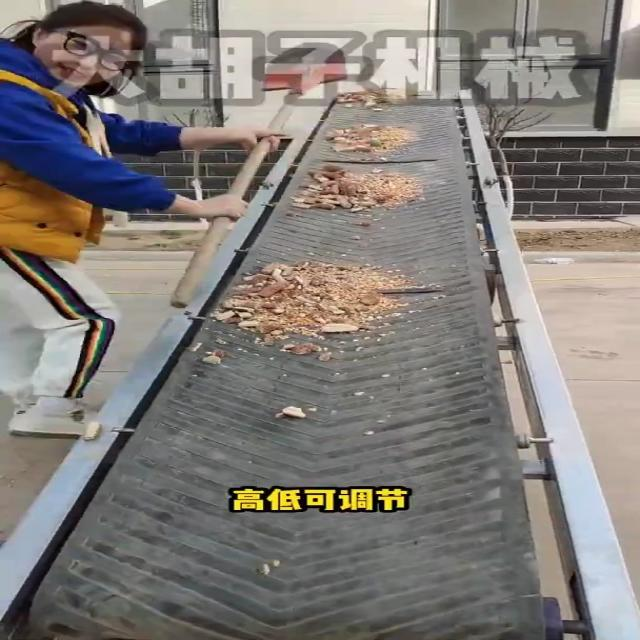Convoyeur: (6, 95, 640, 640)
